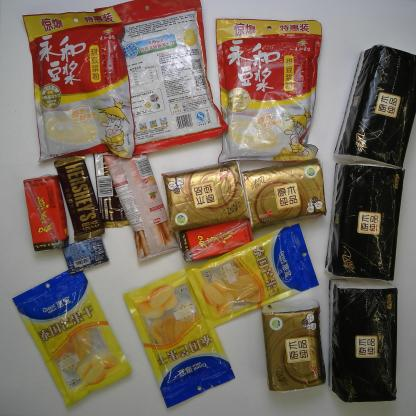Chocolate: (54, 152, 104, 241), (94, 150, 132, 228)
Dessert: (104, 147, 180, 261)
Dried Fruit: (11, 268, 134, 405), (121, 268, 235, 408), (185, 222, 320, 328)
Drink: (22, 174, 70, 252), (182, 220, 256, 262)
Gum: (63, 236, 110, 274)
Instant Drink: (94, 0, 228, 154), (21, 6, 142, 164), (214, 15, 323, 164)
Tissue: (334, 43, 415, 169), (323, 163, 407, 282), (329, 277, 402, 405), (259, 297, 329, 396), (163, 161, 252, 231), (246, 161, 329, 227)
